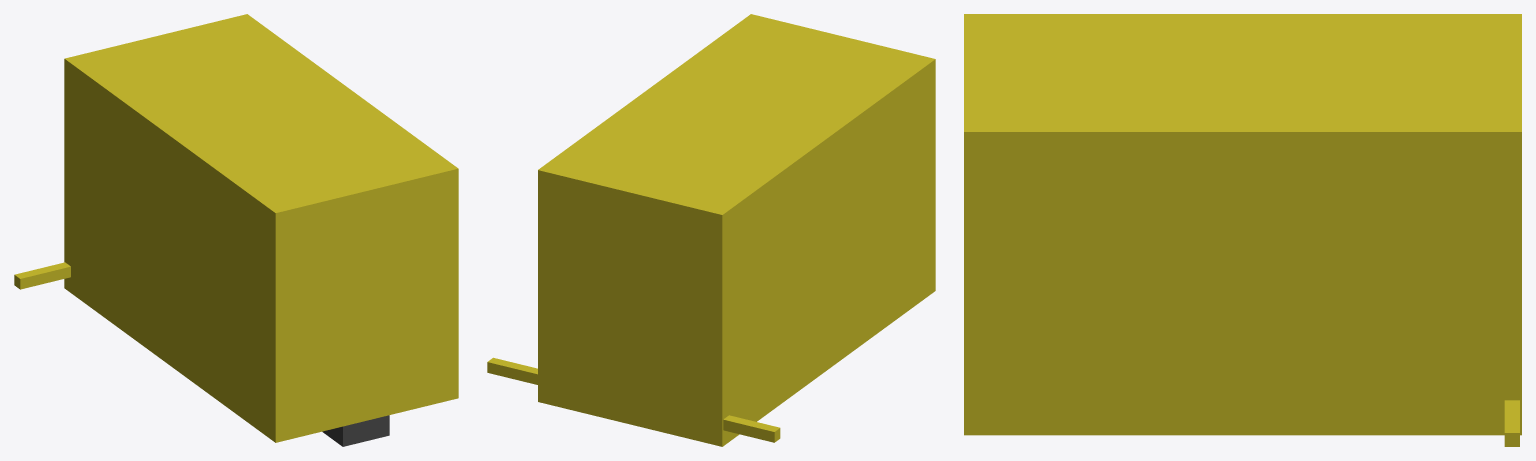
The model's file is body.dae.
3 views of the same model, side by side, from view 1: azimuth 30°, elevation 25°; view 2: azimuth 150°, elevation 25°; view 3: azimuth 270°, elevation 25° (orthographic). The views are drawn at different scales.
Parts seen in each view (by area): view 1: Cube; view 2: Cube; view 3: Cube.
Part boxes in pixels (box(x1,y1,x2,y2)): Cube: box(14, 14, 458, 446); Cube: box(487, 14, 935, 446); Cube: box(964, 14, 1521, 446).
Size of the model in its own units: 0.14 by 0.18 by 0.118.
